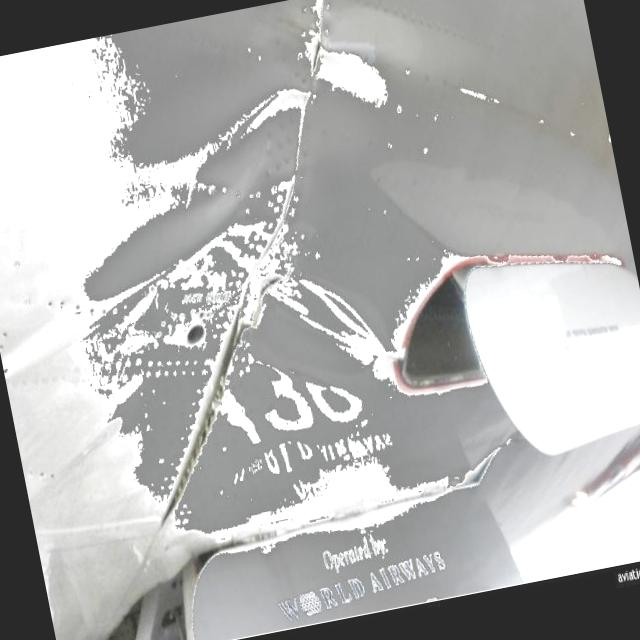crack: (224, 267, 302, 348)
